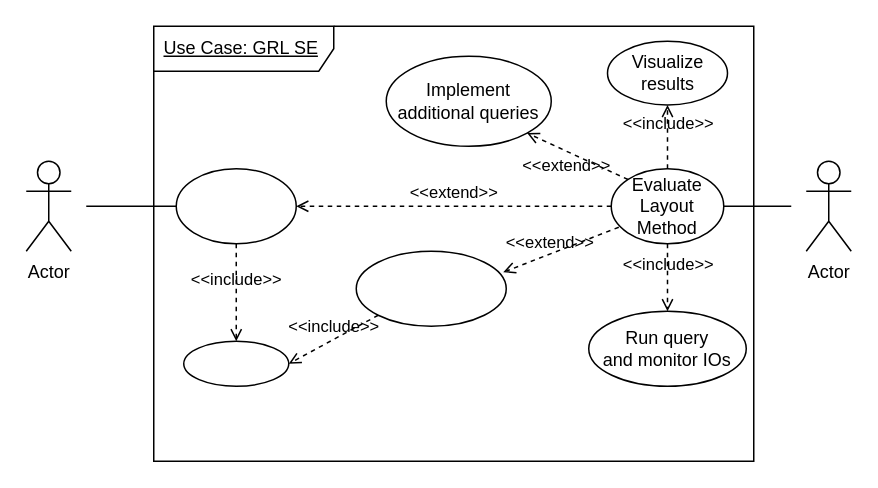
Image size: 878x488. Some labels were removed from this diagram. Here are the shapes that lost their labels. From the top down, the centre of each, then its label:
At point 235,205: "Implement Layout Method".
At point 430,288: "Compare against other methods".
At point 235,363: "Reorder Records".
